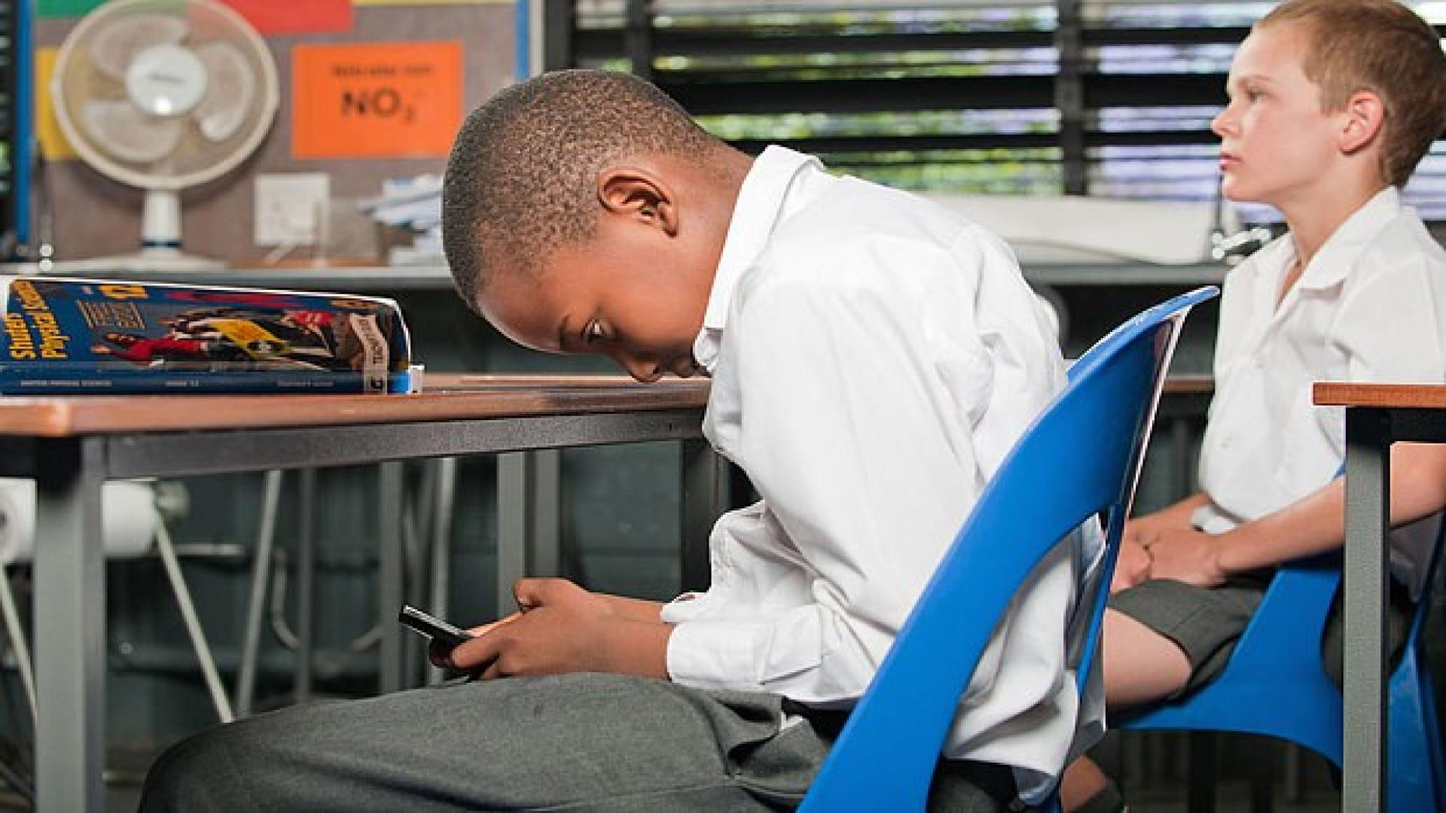phone: (397, 602, 477, 650)
